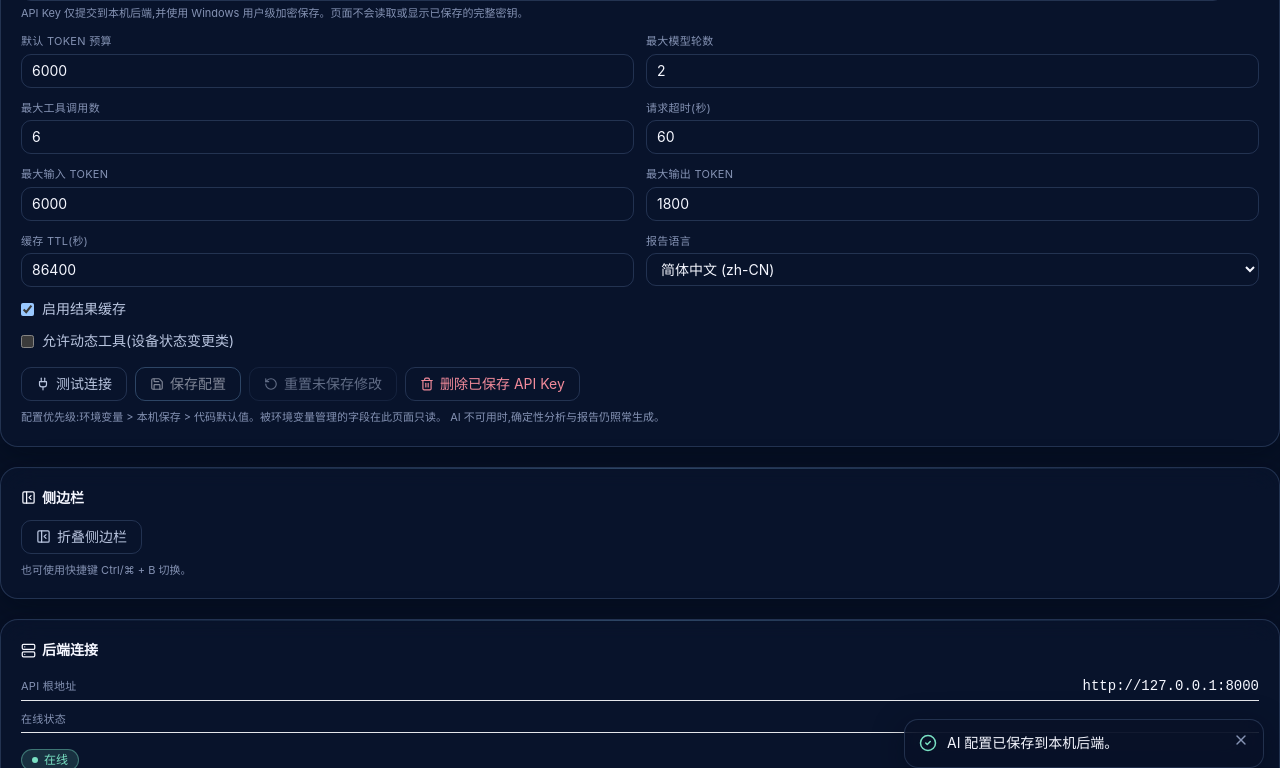
Test: M6B — AI 配置表单 › 测试连接展示安全结果
(page scrolled)
Click the button with test id "ai-settings-test" at [74, 384], box [21,367,127,401]
(page scrolled)
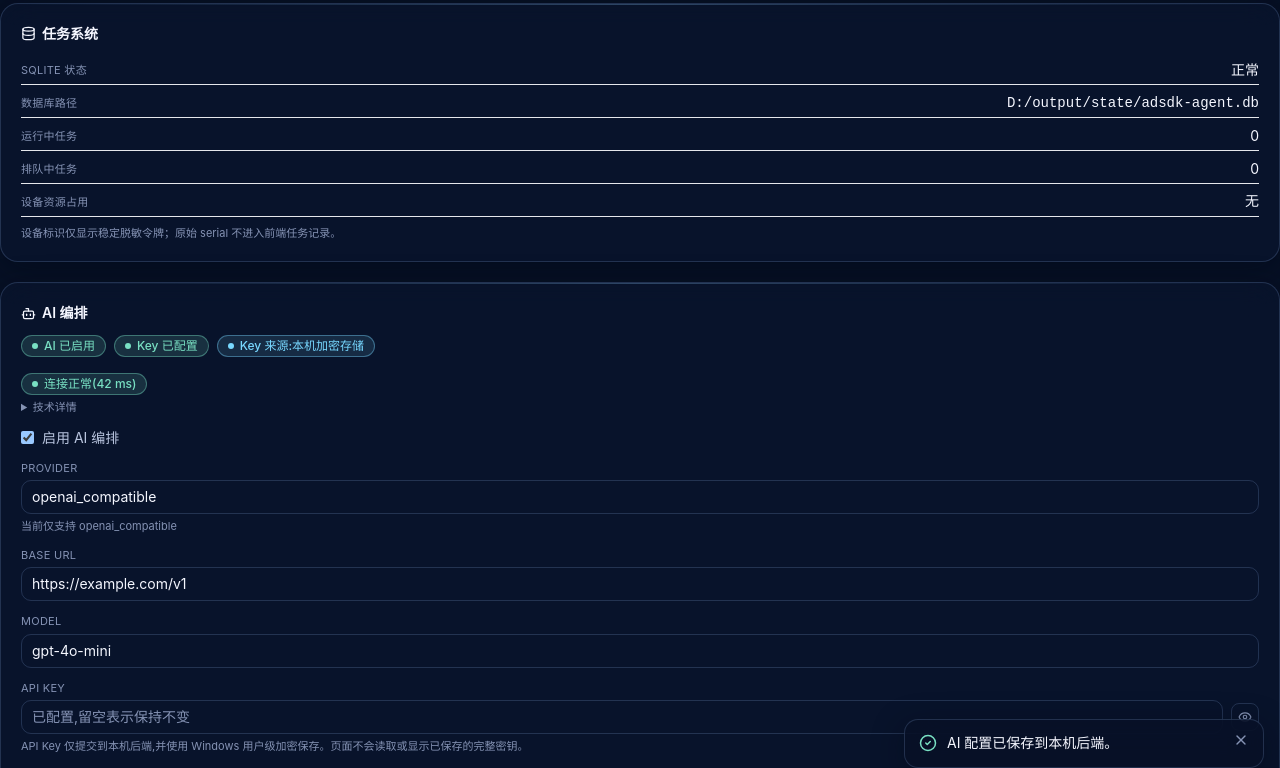
Now the text "连接正常(42 ms)" is shown, box [21,373,148,395]
